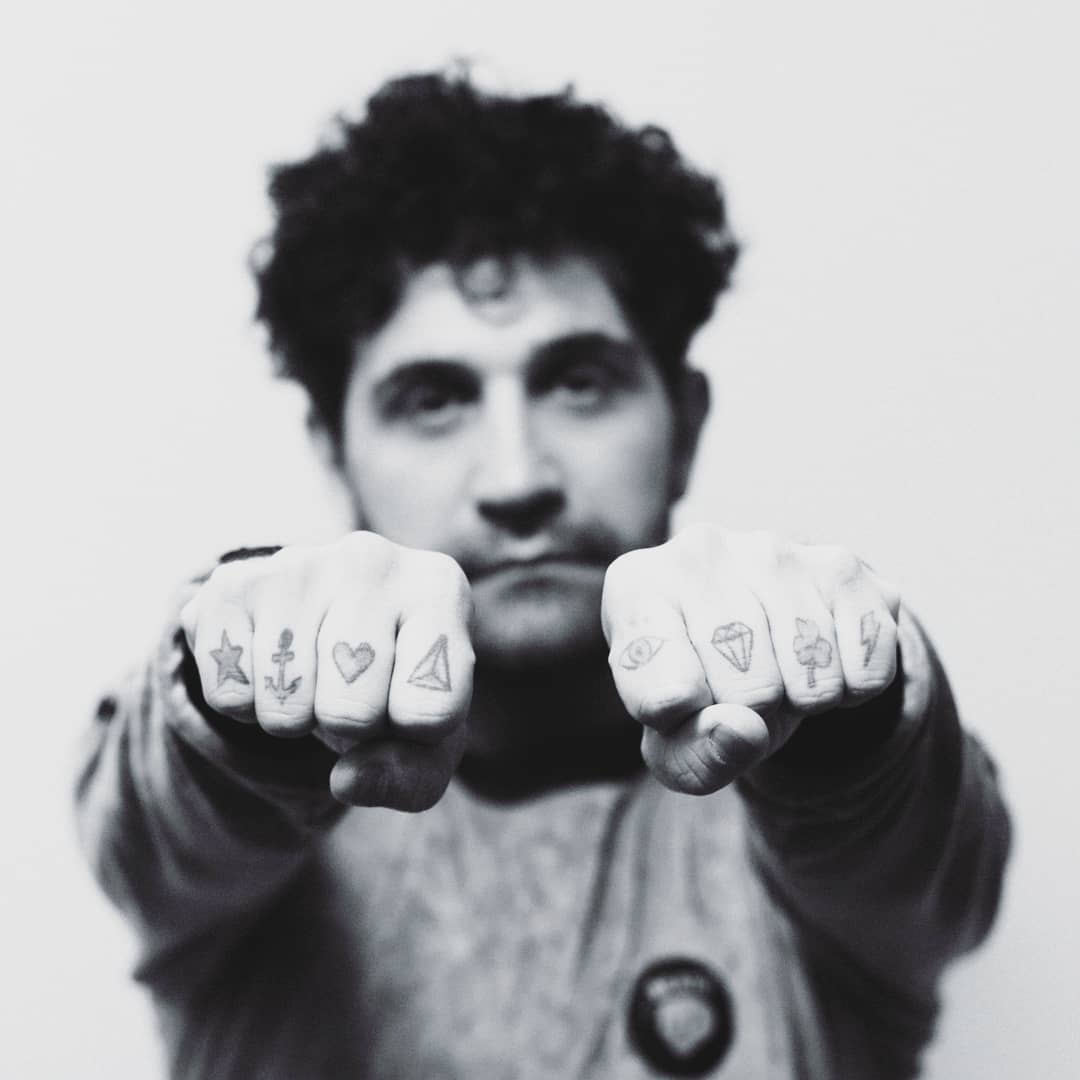hand: (223, 553, 444, 773)
